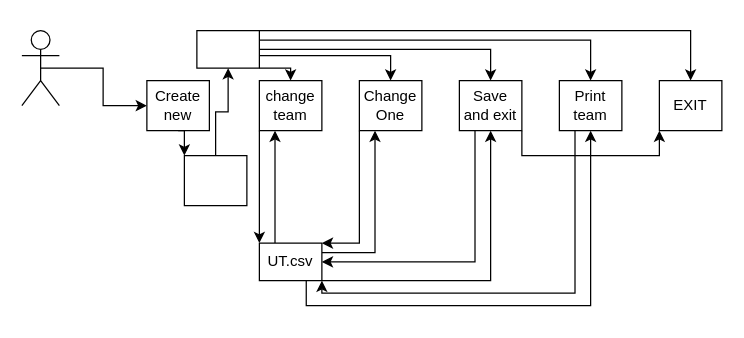
Some shapes in this 744 by 338 pixel diagram are drawn without their labels. Each missing label, with the centre of its shape:
"Actor" goes at point (40, 67).
"Sign in" goes at point (227, 48).
"UD.csv" goes at point (215, 180).
